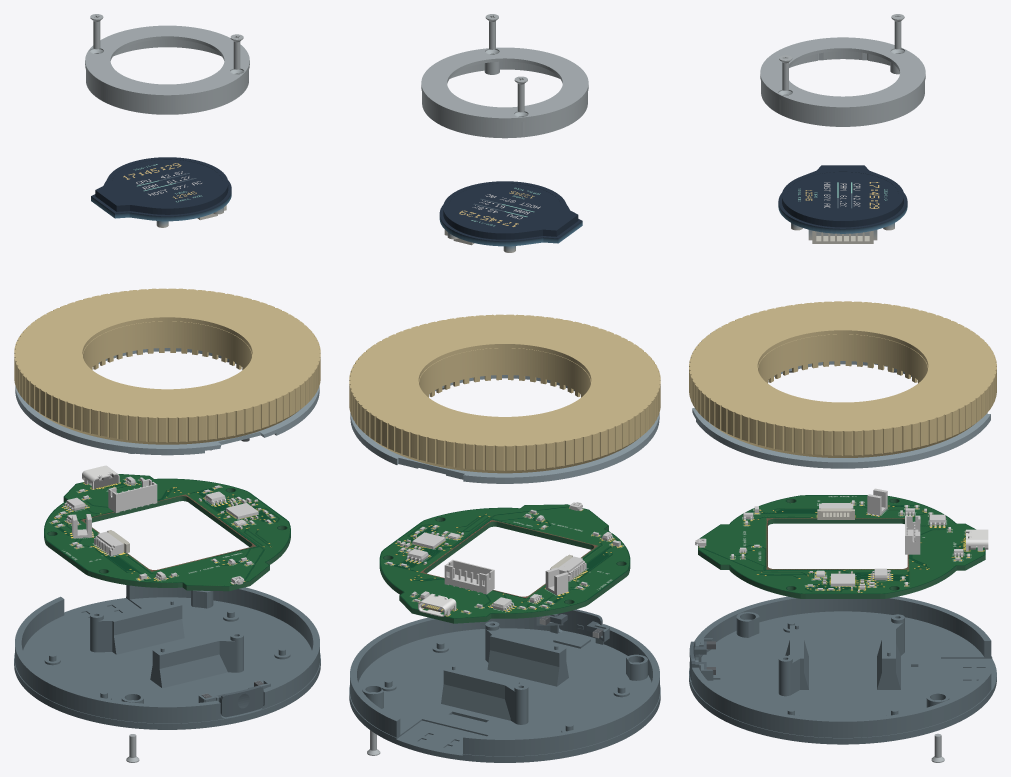
File: exploded.glb
3 renders of one model, left to right at view 1: azimuth 30°, elevation 25°; view 2: azimuth 150°, elevation 25°; view 3: azimuth 270°, elevation 25°, orthographic.
Parts seen in each view (by area): view 1: knob, base, pcb-Box0_cd23e0, display-mount, screen-module, rotor-carrier, pcb-Box0_0d46e2, pcb-J4, button-cap, screen-ui, display-screws; view 2: base, knob, pcb-Box0_cd23e0, display-mount, screen-module, rotor-carrier, pcb-Box0_0d46e2, pcb-J4, button-cap, screen-ui, display-screws, pcb-J1_126afb (+1 smaller); view 3: base, knob, pcb-Box0_cd23e0, display-mount, screen-module, rotor-carrier, pcb-Box0_0d46e2, screen-ui, pcb-J4, lcd-cable-screen-plug, display-screws.
Part boxes in pixels (x1,y1,x2,y2): knob: [14, 288, 320, 444]; base: [14, 585, 320, 729]; pcb-Box0_cd23e0: [44, 474, 290, 586]; display-mount: [85, 25, 249, 114]; screen-module: [91, 157, 231, 227]; rotor-carrier: [15, 348, 319, 455]; pcb-Box0_0d46e2: [44, 487, 290, 591]; pcb-J4: [108, 479, 157, 512]; button-cap: [208, 684, 264, 717]; screen-ui: [123, 163, 202, 202]; display-screws: [90, 14, 243, 69]; base: [349, 614, 660, 762]; knob: [349, 314, 660, 473]; pcb-Box0_cd23e0: [379, 504, 630, 618]; display-mount: [421, 47, 588, 138]; screen-module: [439, 181, 582, 252]; rotor-carrier: [350, 375, 659, 483]; pcb-Box0_0d46e2: [379, 517, 630, 623]; pcb-J4: [444, 559, 494, 594]; button-cap: [546, 609, 604, 638]; screen-ui: [459, 187, 540, 226]; display-screws: [485, 14, 527, 112]; pcb-J1_126afb: [418, 593, 456, 616]; base: [689, 596, 996, 744]; knob: [689, 301, 996, 457]; pcb-Box0_cd23e0: [698, 495, 985, 593]; display-mount: [760, 37, 925, 126]; screen-module: [778, 165, 907, 240]; rotor-carrier: [692, 361, 990, 468]; pcb-Box0_0d46e2: [698, 499, 985, 598]; screen-ui: [798, 182, 887, 208]; pcb-J4: [905, 515, 920, 554]; lcd-cable-screen-plug: [812, 230, 873, 243]; display-screws: [779, 14, 904, 90].
Bounding box in the file's own units: 0.0894 × 0.2185 × 0.0894.
7 materials, 2 textured.
